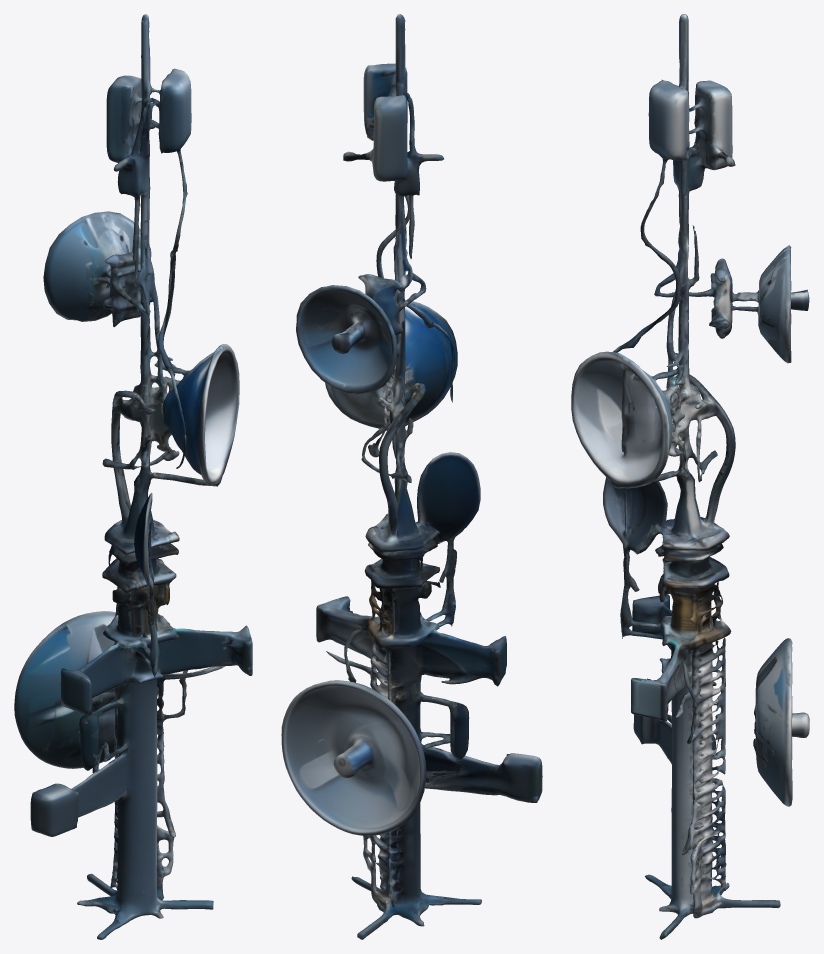
File: antenna.obj
3 renders of one model, left to right at view 1: azimuth 30°, elevation 25°; view 2: azimuth 150°, elevation 25°; view 3: azimuth 270°, elevation 25°, orthographic.
Visible parts, largest first — view 1: Antenna_Signal_Tower_1031044324; view 2: Antenna_Signal_Tower_1031044324; view 3: Antenna_Signal_Tower_1031044324.
Boxes of the visible parts, <box> form: Antenna_Signal_Tower_1031044324: <box>14,14,252,939</box>; Antenna_Signal_Tower_1031044324: <box>281,14,542,939</box>; Antenna_Signal_Tower_1031044324: <box>571,14,809,939</box>.
Size of the model in its own units: 0.488 by 1.9 by 0.457.
